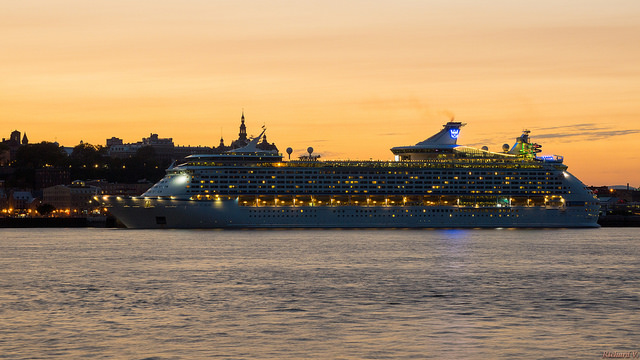cruise_ship: (100, 122, 604, 234)
